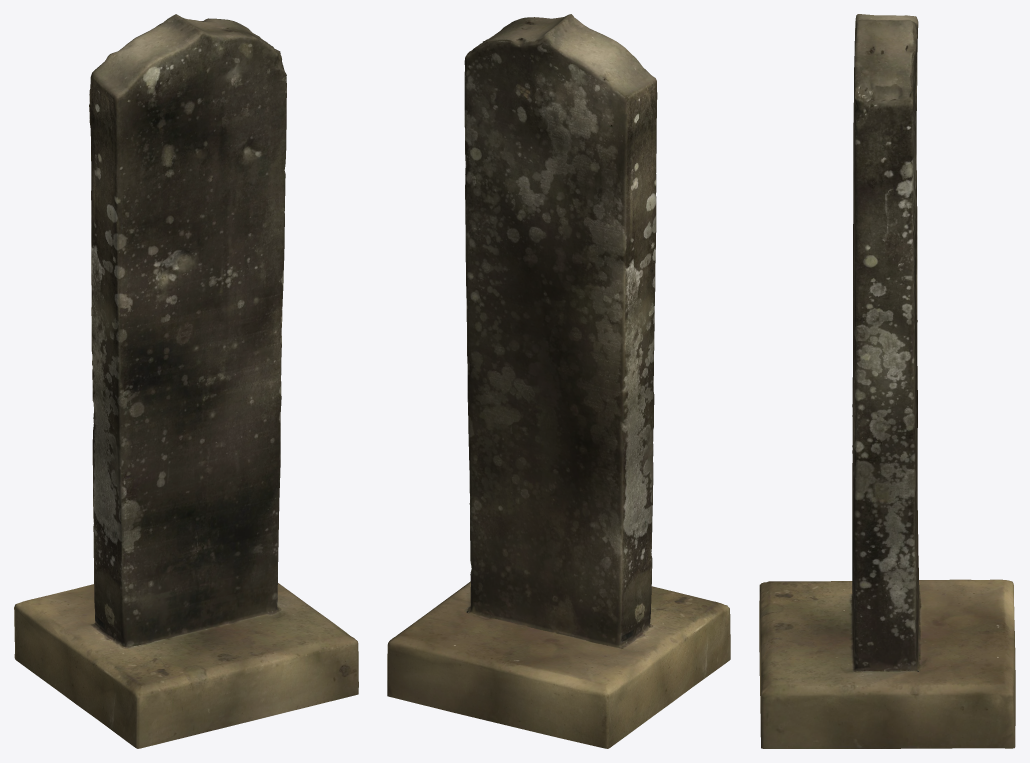
File: MysonMuseum_biadatheki1203msd316_final.glb
3 renders of one model, left to right at view 1: azimuth 30°, elevation 25°; view 2: azimuth 150°, elevation 25°; view 3: azimuth 270°, elevation 25°, orthographic. The views are drawn at different scales.
Size of the model in its own units: 0.7923 by 2.23 by 0.7669.
1 material, 1 textured.
